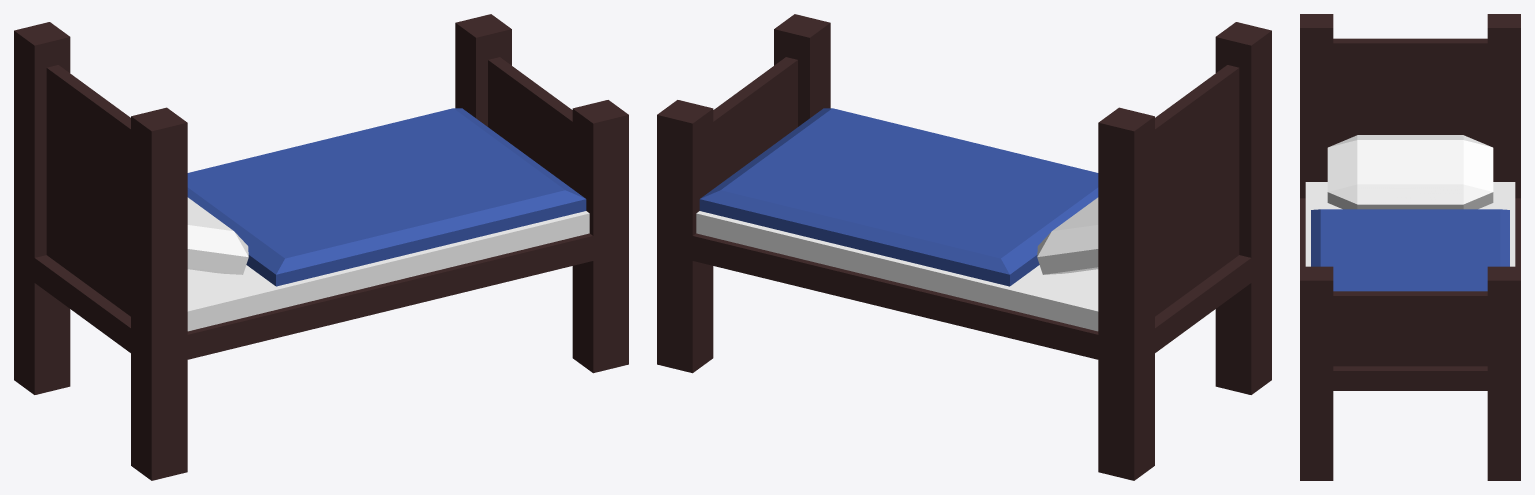
File: Bed.fbx
3 views of the same model, side by side, from view 1: azimuth 30°, elevation 25°; view 2: azimuth 150°, elevation 25°; view 3: azimuth 270°, elevation 25° (orthographic). The views are drawn at different scales.
Visible parts, largest first — view 1: Cube.039, Cube.033, Cube.038, Bed, Cube.034, Cube.036, Bed.001, Cube.037, Cube.035, Pillow; view 2: Cube.039, Cube.034, Bed, Cube.038, Cube.033, Cube.035, Bed.001, Cube.037, Cube.036, Pillow; view 3: Cube.039, Cube.038, Pillow, Cube.037, Cube.035, Cube.036, Bed, Cube.033, Cube.034, Bed.001.
Part boxes in pixels (left/top/right/bottom): Cube.039: left=187, top=108, right=586, bottom=286; Cube.033: left=131, top=107, right=187, bottom=480; Cube.038: left=46, top=65, right=130, bottom=316; Bed: left=28, top=233, right=593, bottom=368; Cube.034: left=14, top=22, right=70, bottom=394; Cube.036: left=572, top=100, right=628, bottom=373; Bed.001: left=187, top=211, right=589, bottom=331; Cube.037: left=488, top=57, right=572, bottom=188; Cube.035: left=455, top=14, right=511, bottom=126; Pillow: left=187, top=197, right=248, bottom=274; Cube.039: left=699, top=108, right=1098, bottom=286; Cube.034: left=1098, top=107, right=1154, bottom=480; Bed: left=657, top=227, right=1271, bottom=368; Cube.038: left=1155, top=65, right=1239, bottom=316; Cube.033: left=1215, top=22, right=1271, bottom=394; Cube.035: left=657, top=100, right=713, bottom=373; Bed.001: left=696, top=211, right=1098, bottom=331; Cube.037: left=713, top=57, right=797, bottom=188; Cube.036: left=774, top=14, right=830, bottom=126; Pillow: left=1037, top=197, right=1098, bottom=274; Cube.039: left=1311, top=209, right=1509, bottom=291; Cube.038: left=1333, top=38, right=1487, bottom=144; Pillow: left=1327, top=135, right=1493, bottom=209; Cube.037: left=1333, top=291, right=1487, bottom=366; Cube.035: left=1487, top=266, right=1520, bottom=480; Cube.036: left=1300, top=266, right=1333, bottom=480; Bed: left=1300, top=198, right=1520, bottom=390; Cube.033: left=1300, top=14, right=1333, bottom=198; Cube.034: left=1487, top=14, right=1520, bottom=198; Bed.001: left=1305, top=182, right=1515, bottom=266.
Bounding box in the file's own units: 360 × 252 × 180.
